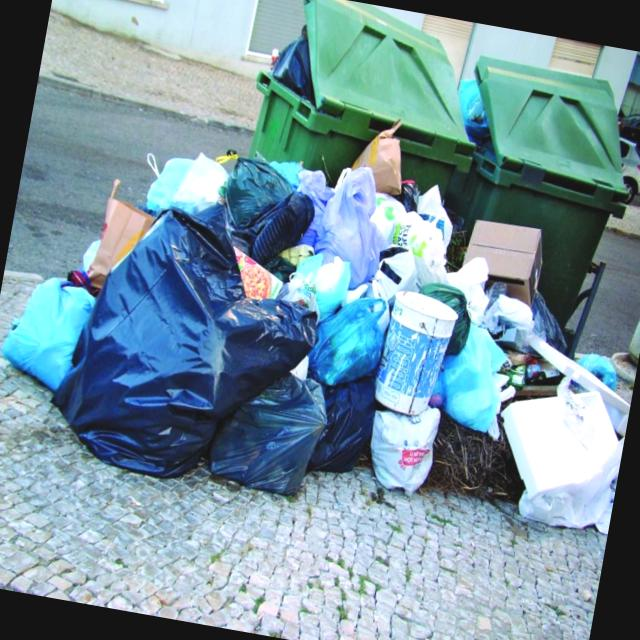garbage: (0, 112, 640, 546)
